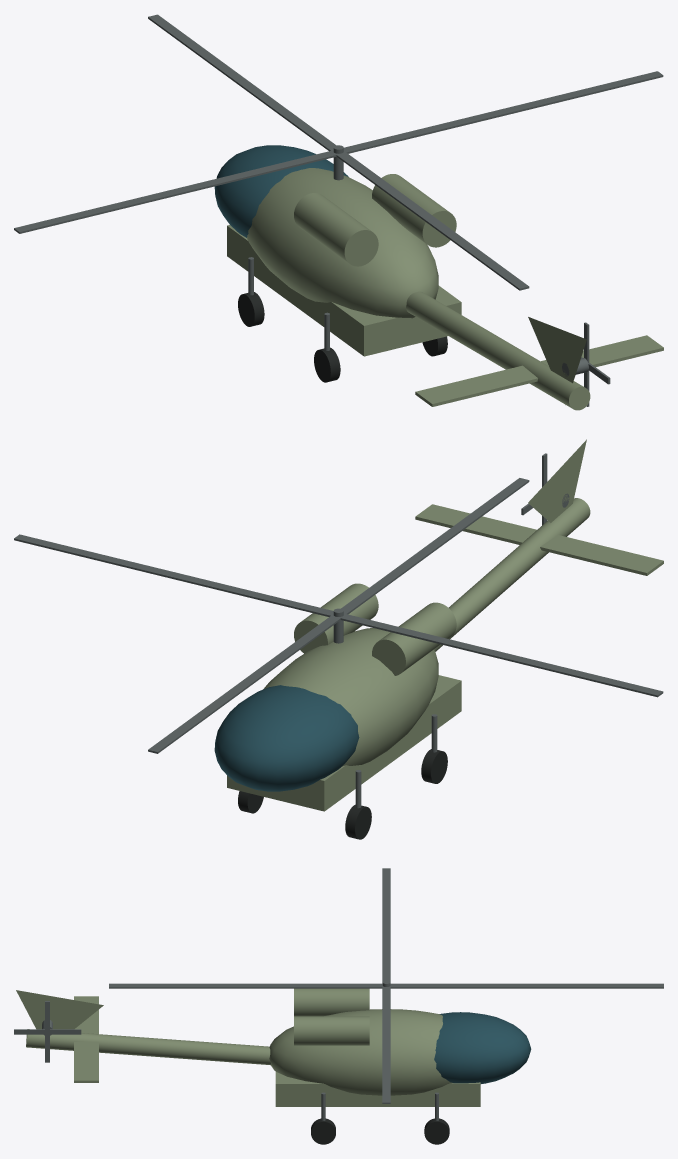
3 views of the same model, one above another, from view 1: azimuth 30°, elevation 25°; view 2: azimuth 150°, elevation 25°; view 3: azimuth 270°, elevation 25° (orthographic). The views are drawn at different scales.
Visible parts, largest first — view 1: Hull_MVP olive paint, Tail_MVP olive paint, MainRotor_MVP exposed metal, Hull_MVP optical glass, RunningGear_MVP rubber, Tail_MVP exposed metal; view 2: Hull_MVP olive paint, Hull_MVP optical glass, Tail_MVP olive paint, MainRotor_MVP exposed metal, RunningGear_MVP rubber; view 3: Hull_MVP olive paint, Tail_MVP olive paint, Hull_MVP optical glass, MainRotor_MVP exposed metal, RunningGear_MVP rubber, Tail_MVP exposed metal.
Boxes of the visible parts, <box> form: Hull_MVP olive paint: <box>227,168,461,356</box>; Tail_MVP olive paint: <box>406,291,663,410</box>; MainRotor_MVP exposed metal: <box>14,14,663,290</box>; Hull_MVP optical glass: <box>214,145,348,237</box>; RunningGear_MVP rubber: <box>238,292,447,382</box>; Tail_MVP exposed metal: <box>562,322,610,406</box>; Hull_MVP olive paint: <box>227,583,461,811</box>; Hull_MVP optical glass: <box>214,685,359,791</box>; Tail_MVP olive paint: <box>415,439,663,651</box>; MainRotor_MVP exposed metal: <box>14,478,663,753</box>; RunningGear_MVP rubber: <box>238,749,447,839</box>; Hull_MVP olive paint: <box>269,988,480,1106</box>; Tail_MVP olive paint: <box>16,990,271,1082</box>; Hull_MVP optical glass: <box>434,1012,531,1083</box>; MainRotor_MVP exposed metal: <box>109,868,663,1103</box>; RunningGear_MVP rubber: <box>311,1118,449,1144</box>; Tail_MVP exposed metal: <box>14,1001,81,1062</box>.
Size of the model in its own units: 13.2 by 3.7 by 15.46.
